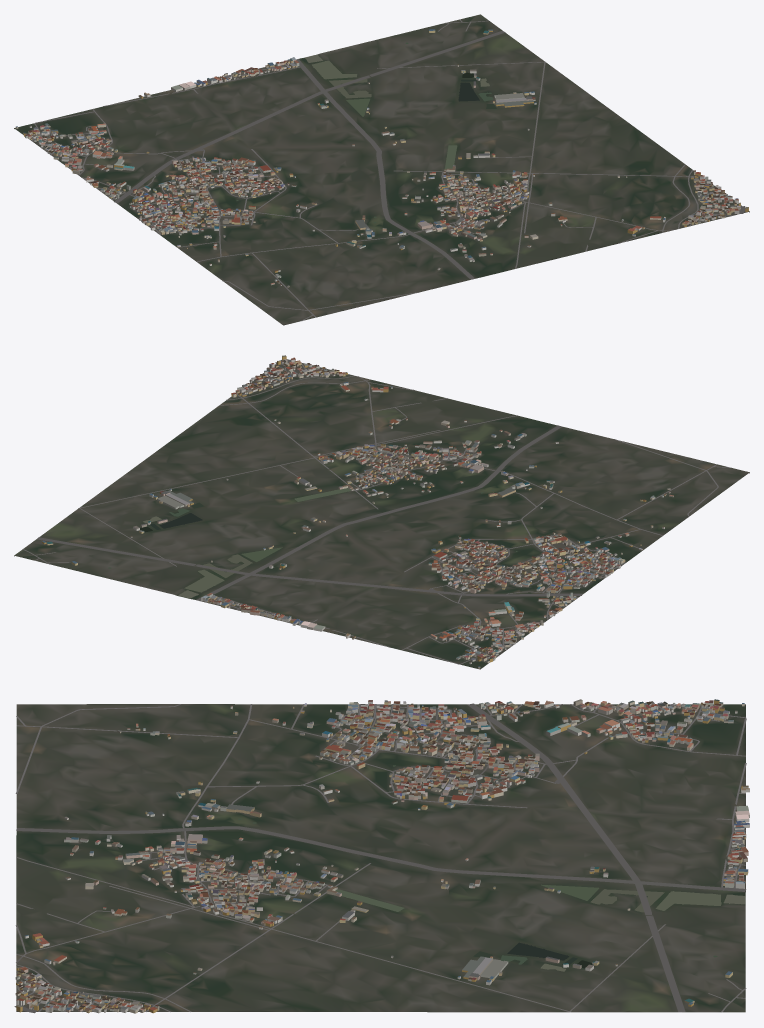
3 renders of one model, top to bottom at view 1: azimuth 30°, elevation 25°; view 2: azimuth 150°, elevation 25°; view 3: azimuth 270°, elevation 25°, orthographic. The views are drawn at different scales.
Visible parts, largest first — view 1: ground, buildings, roads, water; view 2: ground, buildings, roads, water; view 3: ground, buildings, roads, water.
Part boxes in pixels (left/top/right/bottom): ground: left=14, top=14, right=749, bottom=325; buildings: left=15, top=29, right=748, bottom=287; roads: left=26, top=19, right=745, bottom=320; water: left=236, top=42, right=496, bottom=223; ground: left=14, top=359, right=749, bottom=669; buildings: left=42, top=355, right=673, bottom=668; roads: left=22, top=359, right=731, bottom=664; water: left=108, top=488, right=517, bottom=598; ground: left=16, top=704, right=745, bottom=1012; buildings: left=15, top=699, right=749, bottom=1013; roads: left=14, top=703, right=746, bottom=1013; water: left=238, top=765, right=745, bottom=971.
Bounding box in the file's own units: 1415 × 15.27 × 1415.
